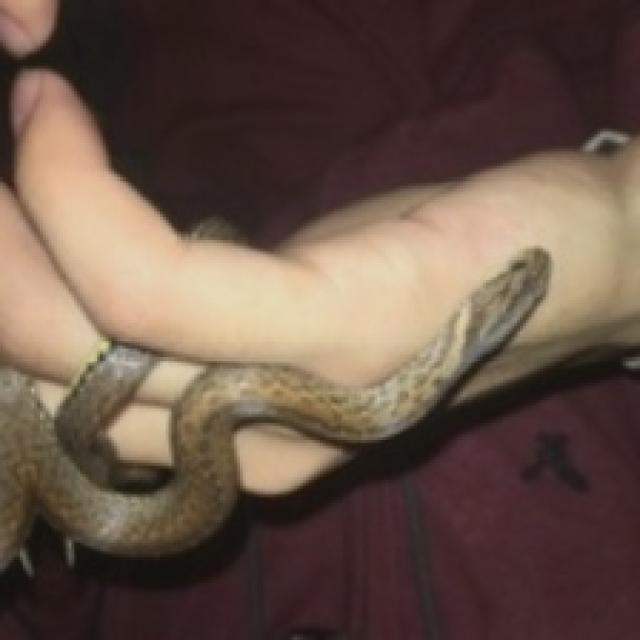reinhardts lined snake: (0, 249, 549, 566), (0, 249, 549, 563)
